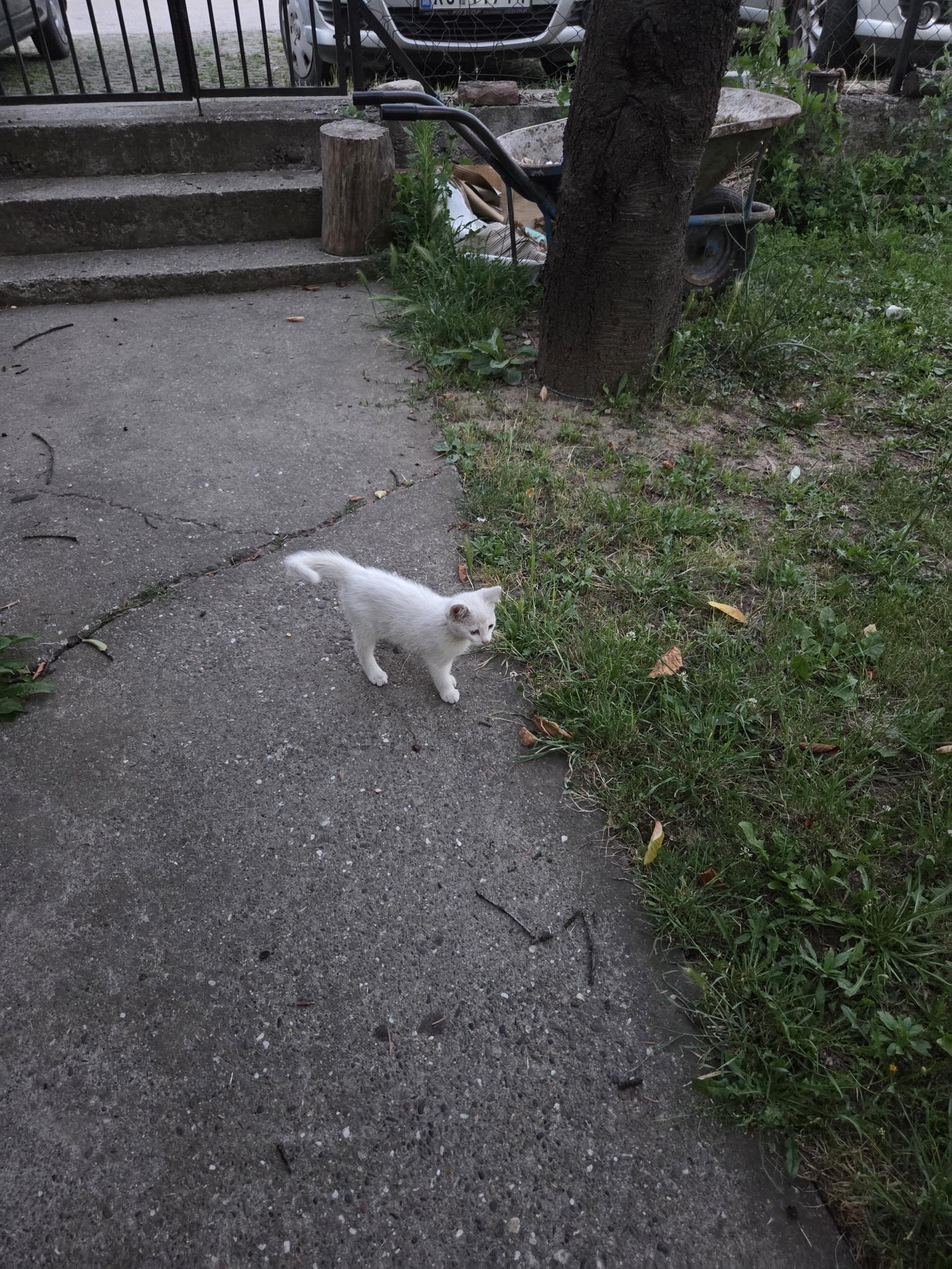macka: (284, 551, 503, 702)
